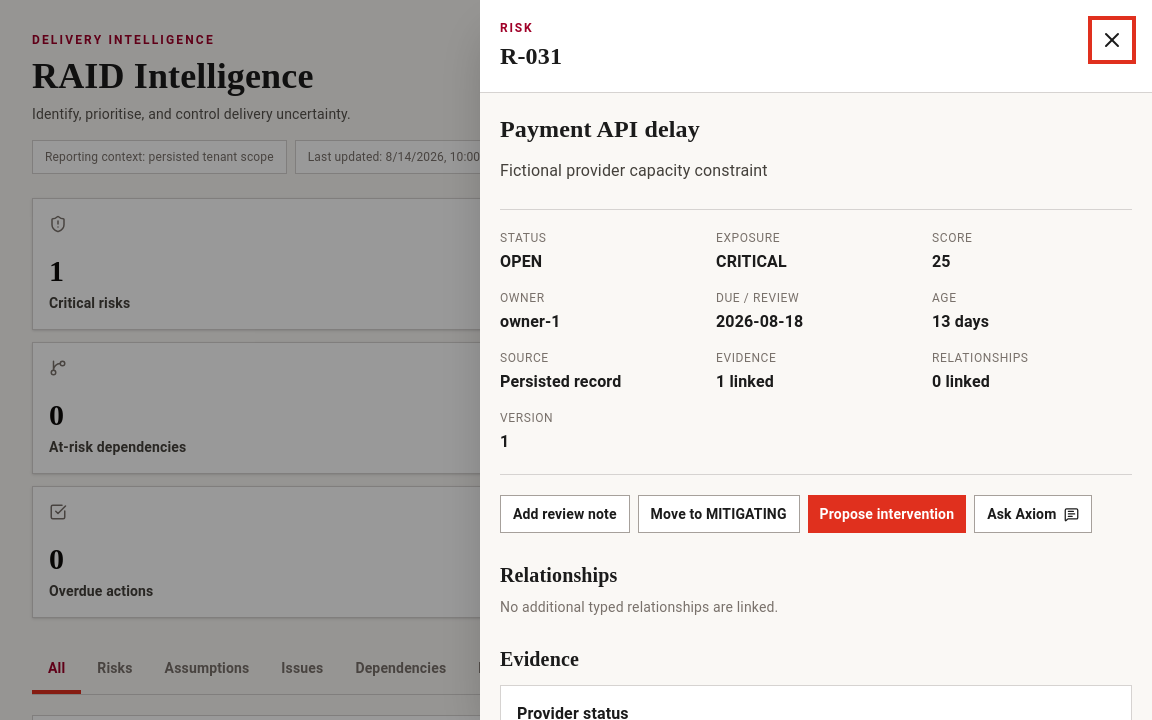
Test: RAID intelligence › saves a review and proposal without external execution
Expected: the dialog "R-031" is shown, left=480, top=0, right=1151, bottom=719
Click the button "Add review note" at (565, 514), box left=500, top=495, right=630, bottom=533
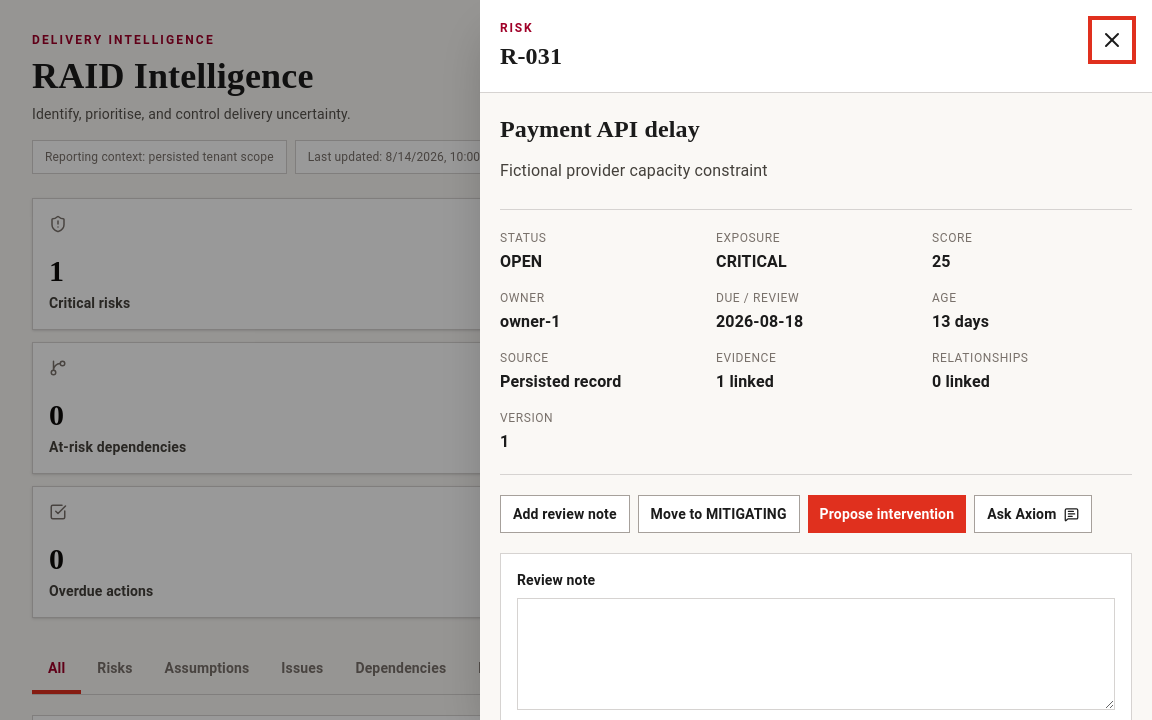
Type "Reviewed persisted evidence." into the text box labelled "Review note" at (816, 654), box left=517, top=598, right=1115, bottom=710
(page scrolled)
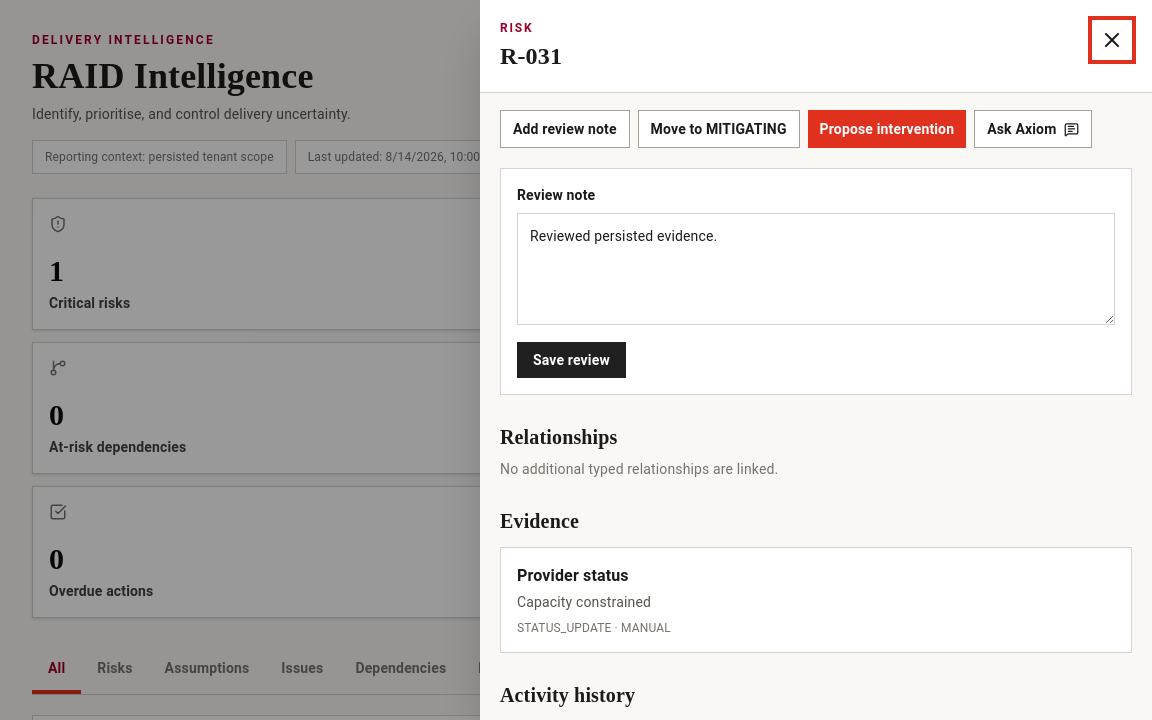
Click the button "Save review" at (571, 360), box left=517, top=342, right=626, bottom=378
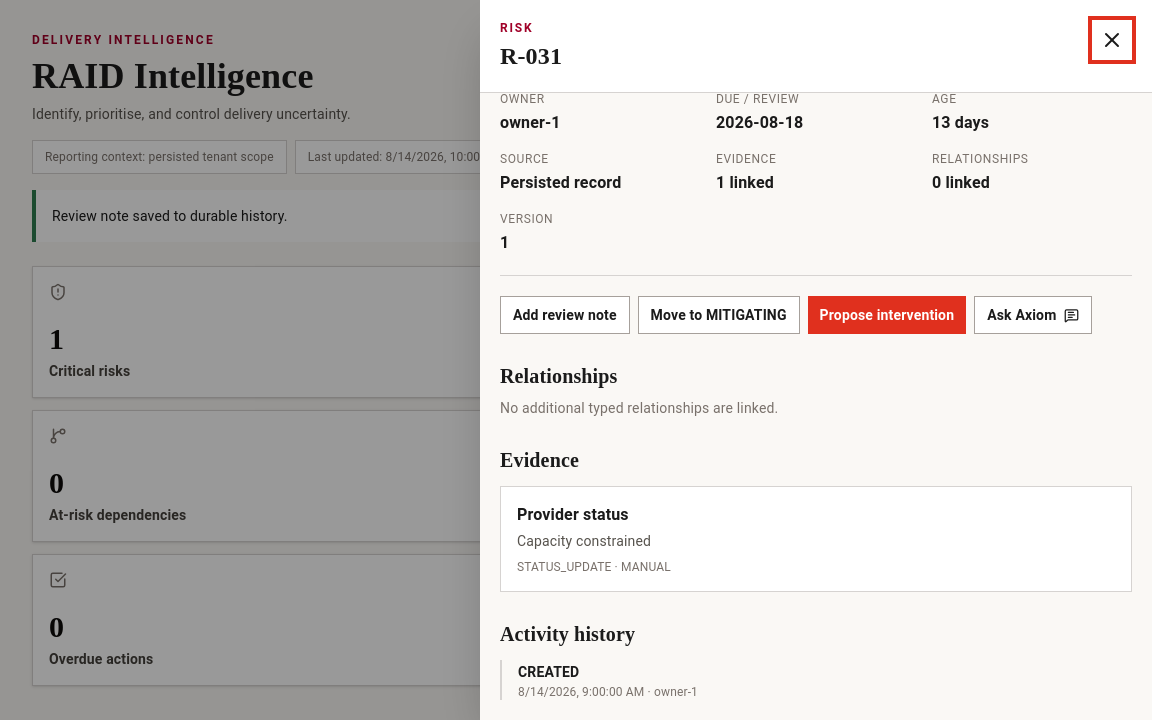
Result: the message shows "durable history" at left=52, top=208, right=288, bottom=224
Click the button "Propose intervention" at (887, 315), box left=808, top=296, right=966, bottom=334
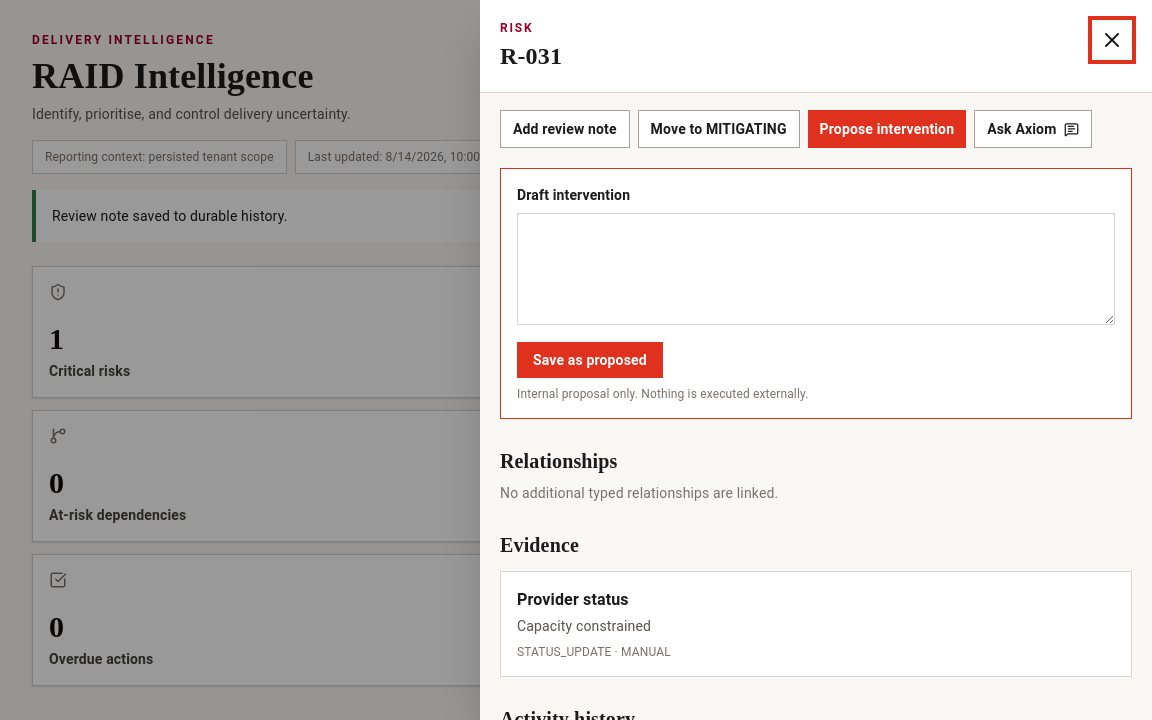
Type "Draft an internal escalation." into the text box labelled "Draft intervention" at (816, 269), box left=517, top=213, right=1115, bottom=325
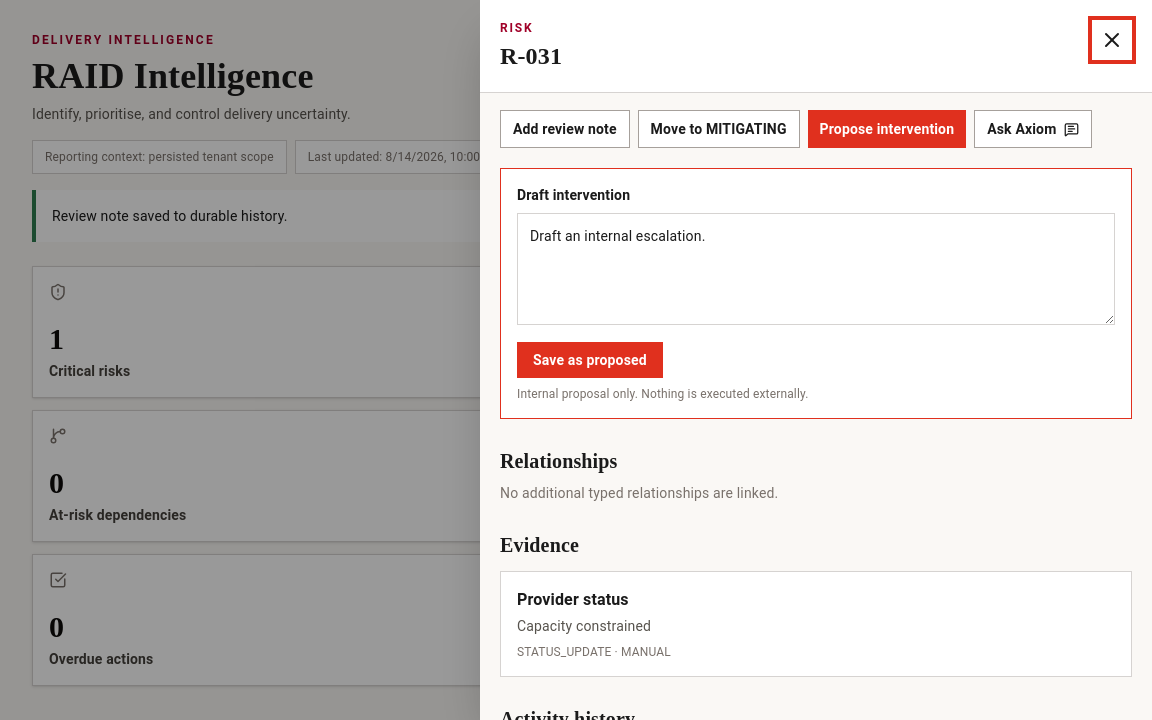
Click the button "Save as proposed" at (590, 360), box left=517, top=342, right=663, bottom=378
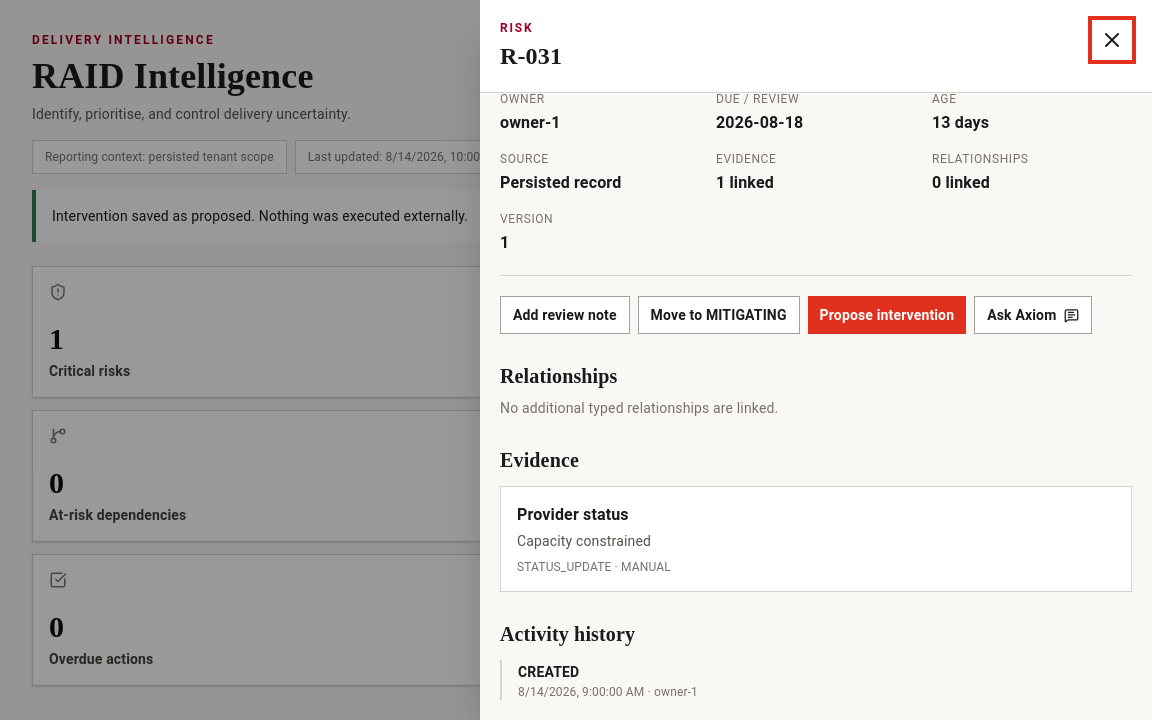
Result: the message shows "Nothing was executed externally" at left=52, top=208, right=468, bottom=224
